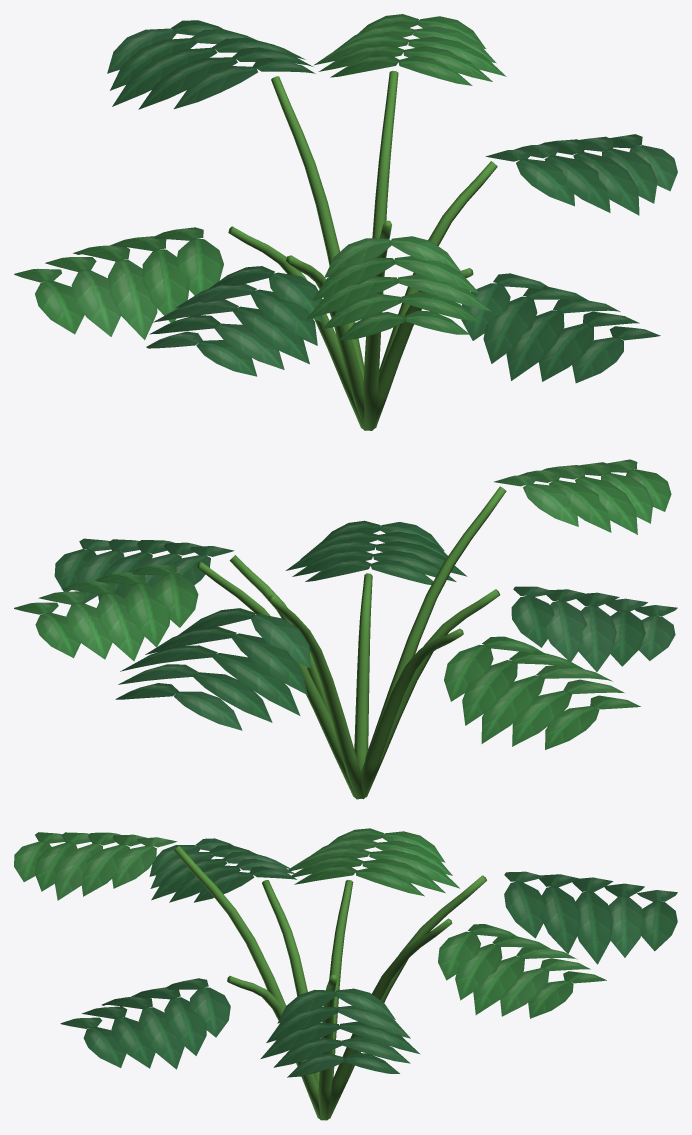
File: monstera_b.glb
The picture shows the model from 3 angles, top to bottom: view 1: azimuth 30°, elevation 25°; view 2: azimuth 150°, elevation 25°; view 3: azimuth 270°, elevation 25°; orthographic projection. The views are drawn at different scales.
Visible parts, largest first — view 1: Monstera_leaf; view 2: Monstera_leaf; view 3: Monstera_leaf.
Part boxes in pixels (bbox=[...]): Monstera_leaf: bbox=[14, 14, 677, 430]; Monstera_leaf: bbox=[14, 459, 677, 799]; Monstera_leaf: bbox=[14, 828, 677, 1120].
Bounding box in the file's own units: 1.6 × 0.7118 × 1.75.
Materials: 1 (1 with a texture image).
